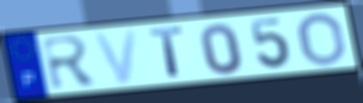0: (197, 20, 246, 76)
5: (249, 16, 293, 71)
O: (297, 11, 349, 67)
R: (39, 33, 101, 92)
T: (147, 25, 188, 79)
V: (91, 27, 140, 86)
